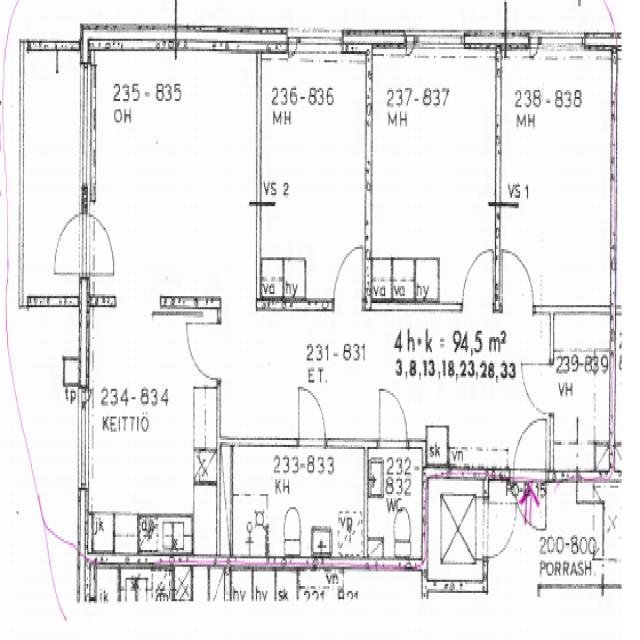door: (482, 482, 520, 563), (184, 313, 223, 385), (498, 240, 537, 312), (511, 413, 551, 482), (50, 209, 86, 282), (459, 240, 497, 309), (374, 381, 411, 451), (293, 380, 328, 450), (332, 238, 366, 307), (84, 208, 117, 274), (520, 358, 552, 417), (602, 503, 624, 544), (525, 28, 544, 68), (283, 30, 302, 65), (402, 28, 418, 64)
window: (75, 56, 98, 199), (172, 24, 252, 56), (92, 26, 175, 56), (74, 398, 94, 496), (409, 24, 466, 58), (292, 25, 346, 60), (77, 290, 94, 392), (535, 26, 588, 58), (378, 25, 413, 59), (326, 428, 372, 451)
zone: (86, 44, 258, 306), (82, 305, 218, 558), (367, 46, 499, 303), (499, 42, 615, 316), (259, 38, 371, 300), (242, 440, 370, 563), (550, 308, 613, 481), (228, 441, 300, 565), (537, 478, 603, 590), (366, 443, 424, 565)
